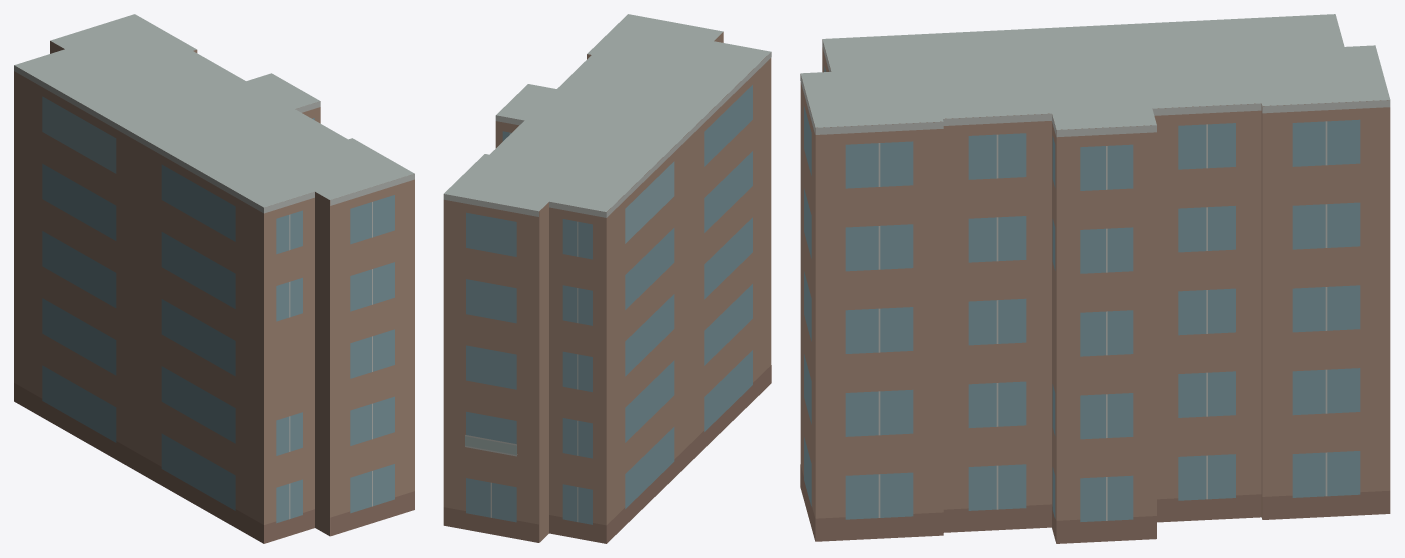
Rendered from survey-upis-32614573.glb.
The picture shows the model from 3 angles, left to right: view 1: azimuth 30°, elevation 25°; view 2: azimuth 150°, elevation 25°; view 3: azimuth 270°, elevation 25°; orthographic projection. The views are drawn at different scales.
Parts seen in each view (by area): view 1: survey-upis-32614573.tmp; view 2: survey-upis-32614573.tmp; view 3: survey-upis-32614573.tmp.
Boxes of the visible parts, x1,y1,x2,y2 form: survey-upis-32614573.tmp: (14, 14, 414, 543); survey-upis-32614573.tmp: (443, 14, 771, 543); survey-upis-32614573.tmp: (800, 14, 1390, 543).
Bounding box in the file's own units: 8.42 × 14 × 18.1.
